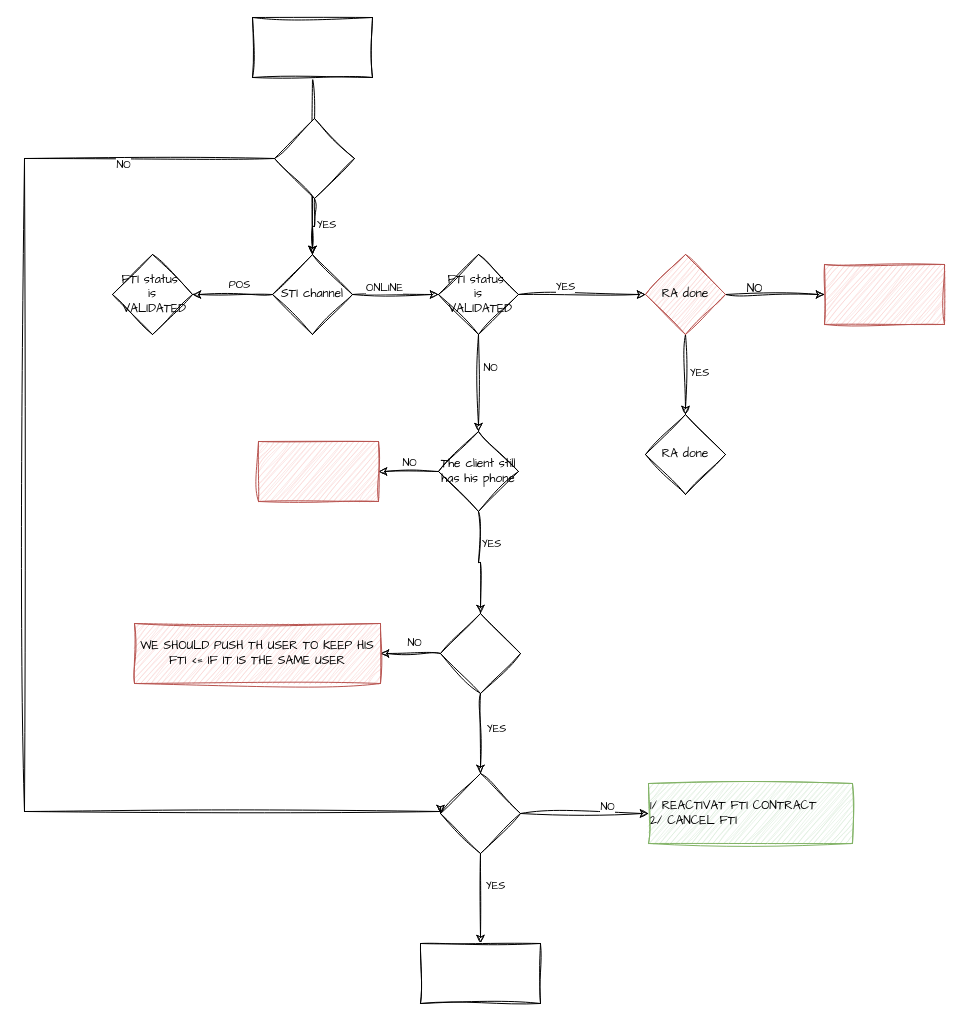
The diagram is 962 pixels wide and 1021 high, and some of its shapes have lost their labels. The shapes that lost their labels are listed below. From the top down, each one's box as (x1, y1, x2, y2) in pixels, then its label:
(252, 16, 372, 78): spot attempt (STI over FTI)
(274, 118, 354, 198): Same User
(440, 612, 520, 694): STI price lower than FTI price
(440, 772, 520, 854): FTI contract active
